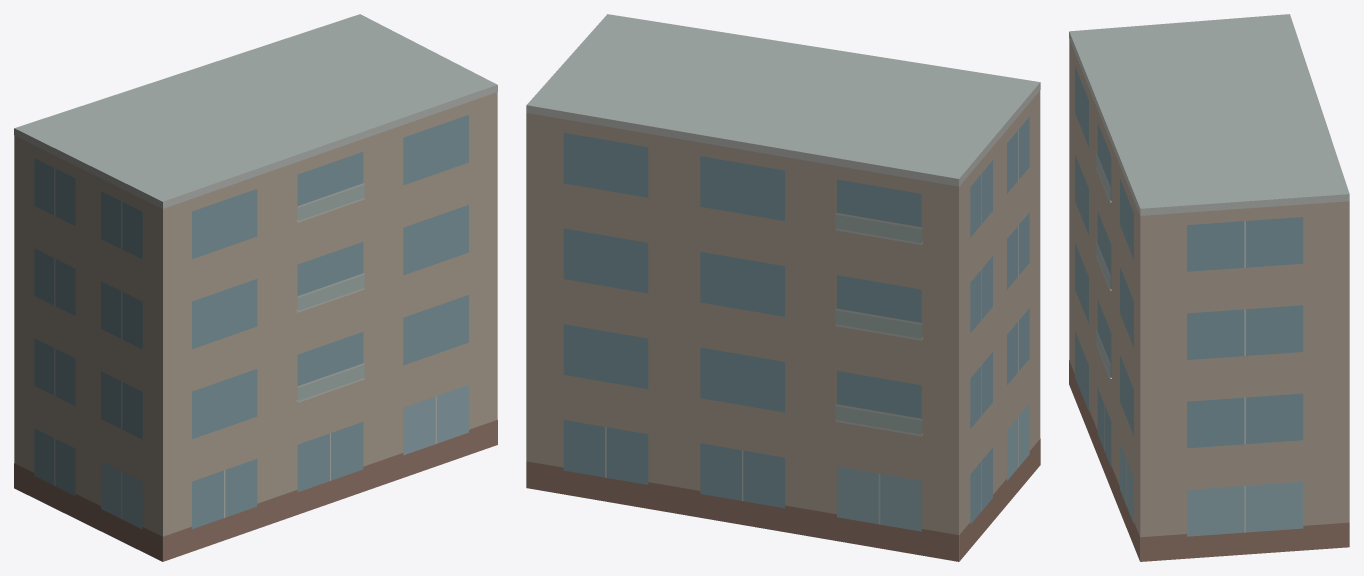
File: survey-upis-32887786.glb
3 renders of one model, left to right at view 1: azimuth 30°, elevation 25°; view 2: azimuth 150°, elevation 25°; view 3: azimuth 270°, elevation 25°, orthographic. The views are drawn at different scales.
Parts seen in each view (by area): view 1: survey-upis-32887786.tmp; view 2: survey-upis-32887786.tmp; view 3: survey-upis-32887786.tmp.
Part boxes in pixels (left/top/right/bottom): survey-upis-32887786.tmp: left=14, top=14, right=497, bottom=561; survey-upis-32887786.tmp: left=526, top=14, right=1040, bottom=561; survey-upis-32887786.tmp: left=1069, top=14, right=1349, bottom=561.
Bounding box in the file's own units: 14.45 × 12.2 × 8.8.
